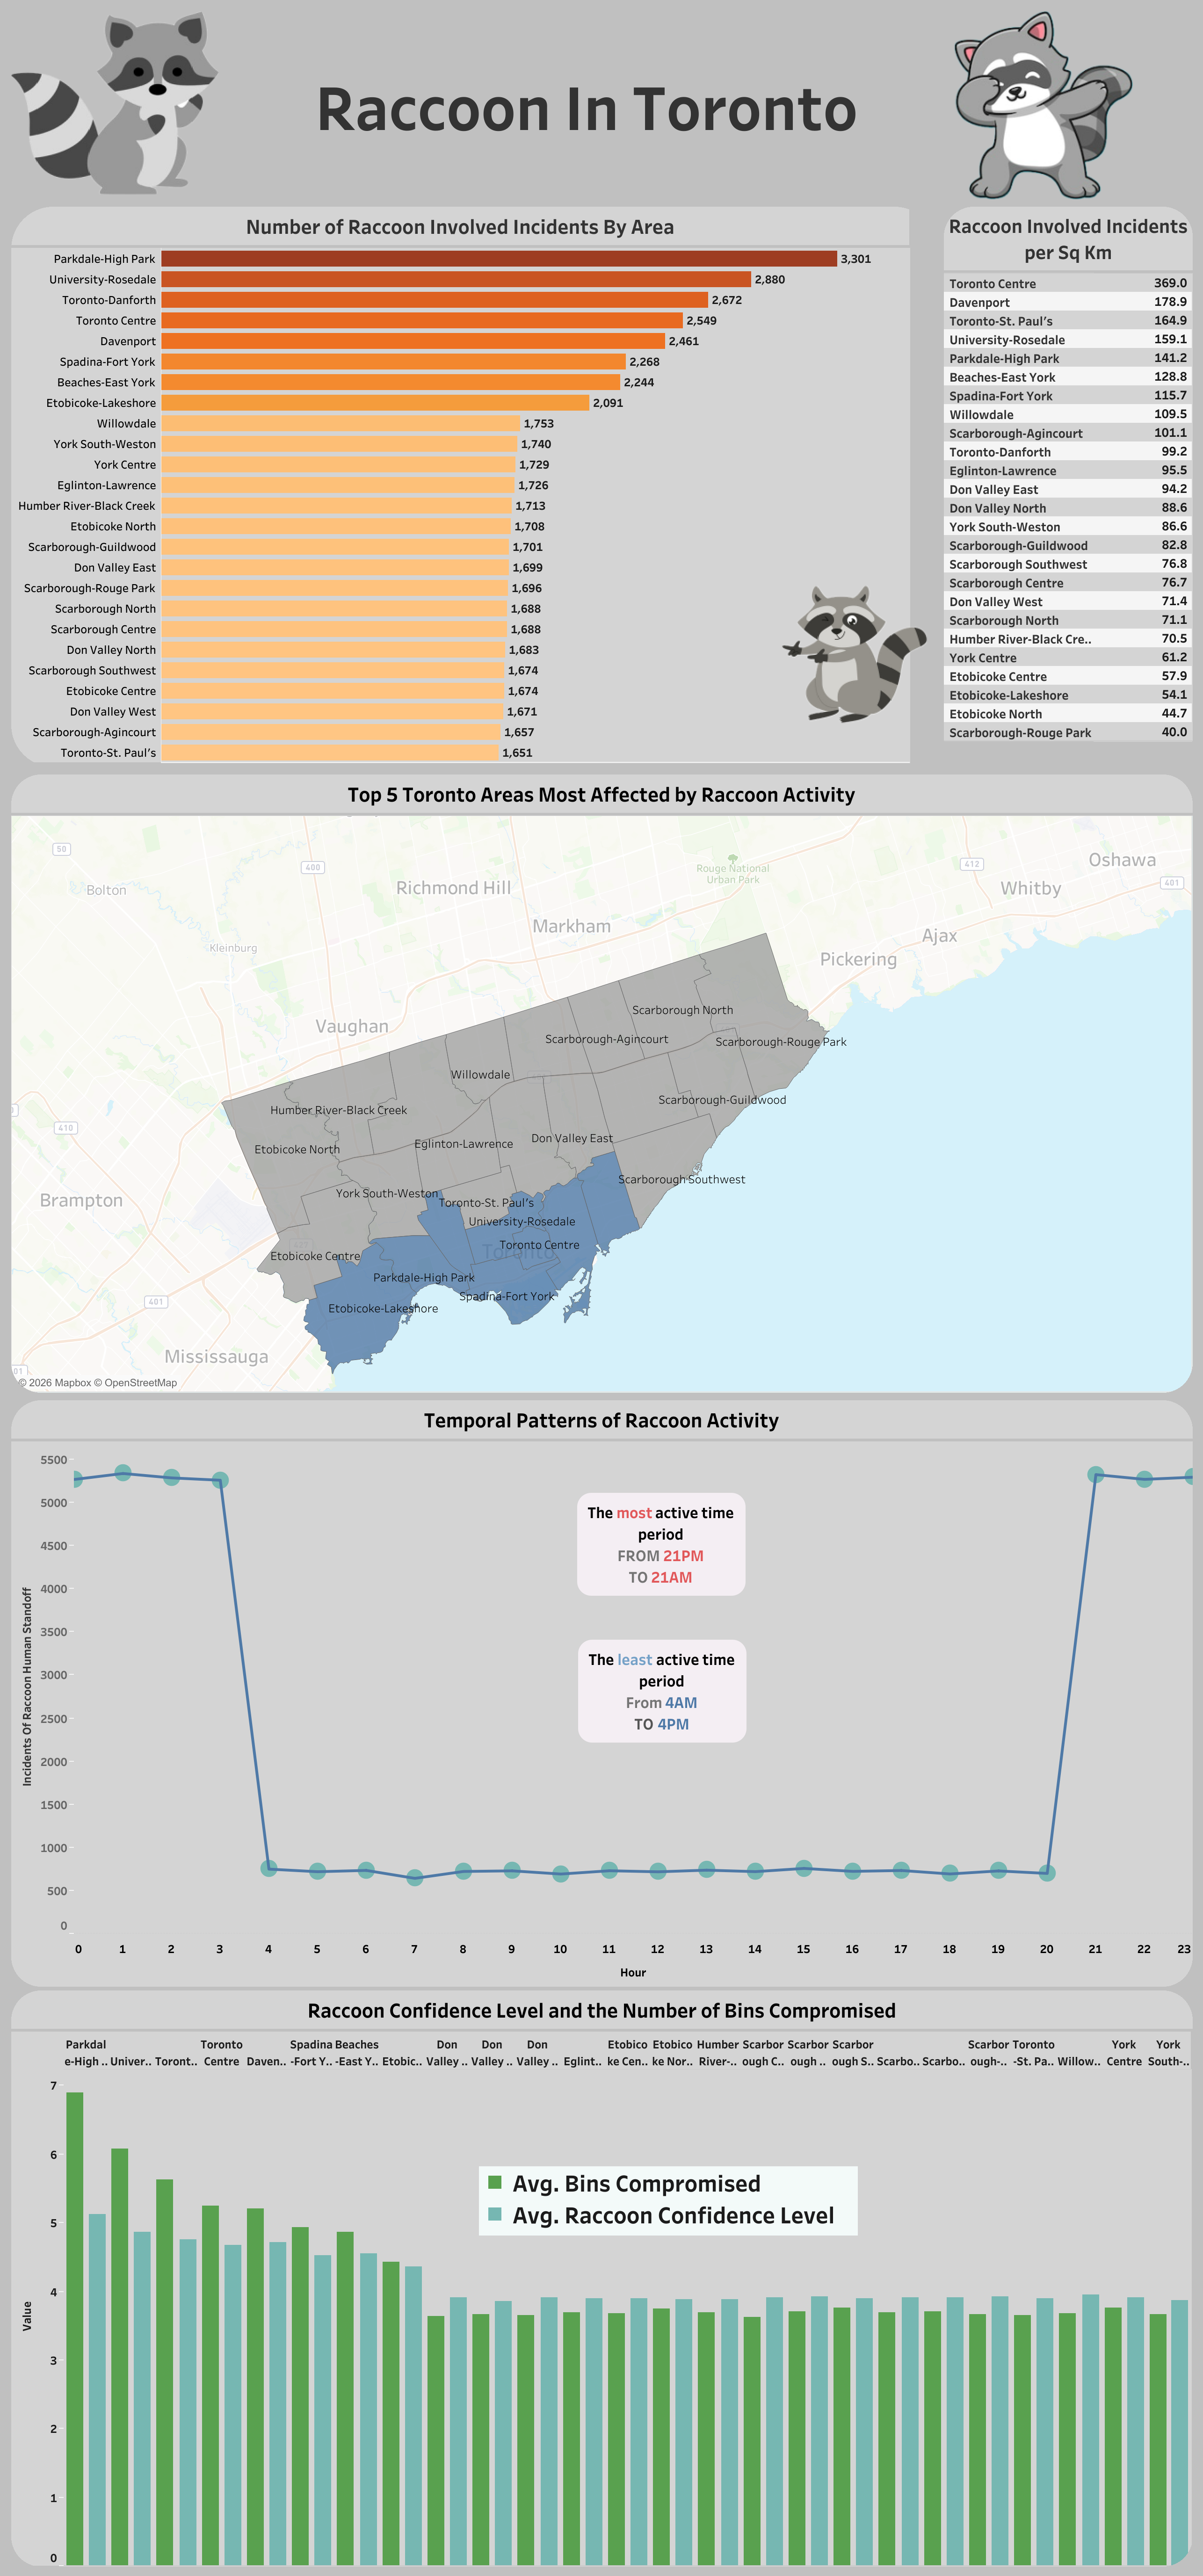

This screenshot's page, from the dashboard's own definition file:
{"tool":"tableau","page":{"name":"Dashboard 1","canvas":[1000,1000],"units":"permille","ordinal":0},"visuals":[{"type":"worksheet","title":"Sheet 1","mark":"Automatic","rows":["ward_name"],"cols":["incidents_of_raccoon_human_standoff"],"box":[6.5,9.9,424.7,508.6]},{"type":"worksheet","title":"Sheet 4","mark":"Automatic","box":[431.2,9.9,378.4,508.6]},{"type":"worksheet","title":"Sheet 6","mark":"Automatic","rows":["AREA_NAME"],"box":[809.6,9.9,183.9,508.6]},{"type":"worksheet","title":"Sheet 3","mark":"Automatic","rows":["incidents_of_raccoon_human_standoff"],"cols":["hour"],"box":[6.5,518.5,493.1,471.6]},{"type":"worksheet","title":"Sheet 2","mark":"Automatic","cols":["ward_name"],"box":[499.6,518.5,493.9,471.6]}]}

Visuals, with their boxes on the dashboard's canvas, which has no fixed pixel size, in thousandths of its width and height (x1, y1, x2, y2). These are canvas units, not pixel positions in the 1203x2576 screenshot, which may show the page scaled, cropped or inside an application window:
"Sheet 1" worksheet: detection(6, 10, 431, 518)
"Sheet 4" worksheet: detection(431, 10, 810, 518)
"Sheet 6" worksheet: detection(810, 10, 994, 518)
"Sheet 3" worksheet: detection(6, 518, 500, 990)
"Sheet 2" worksheet: detection(500, 518, 994, 990)
